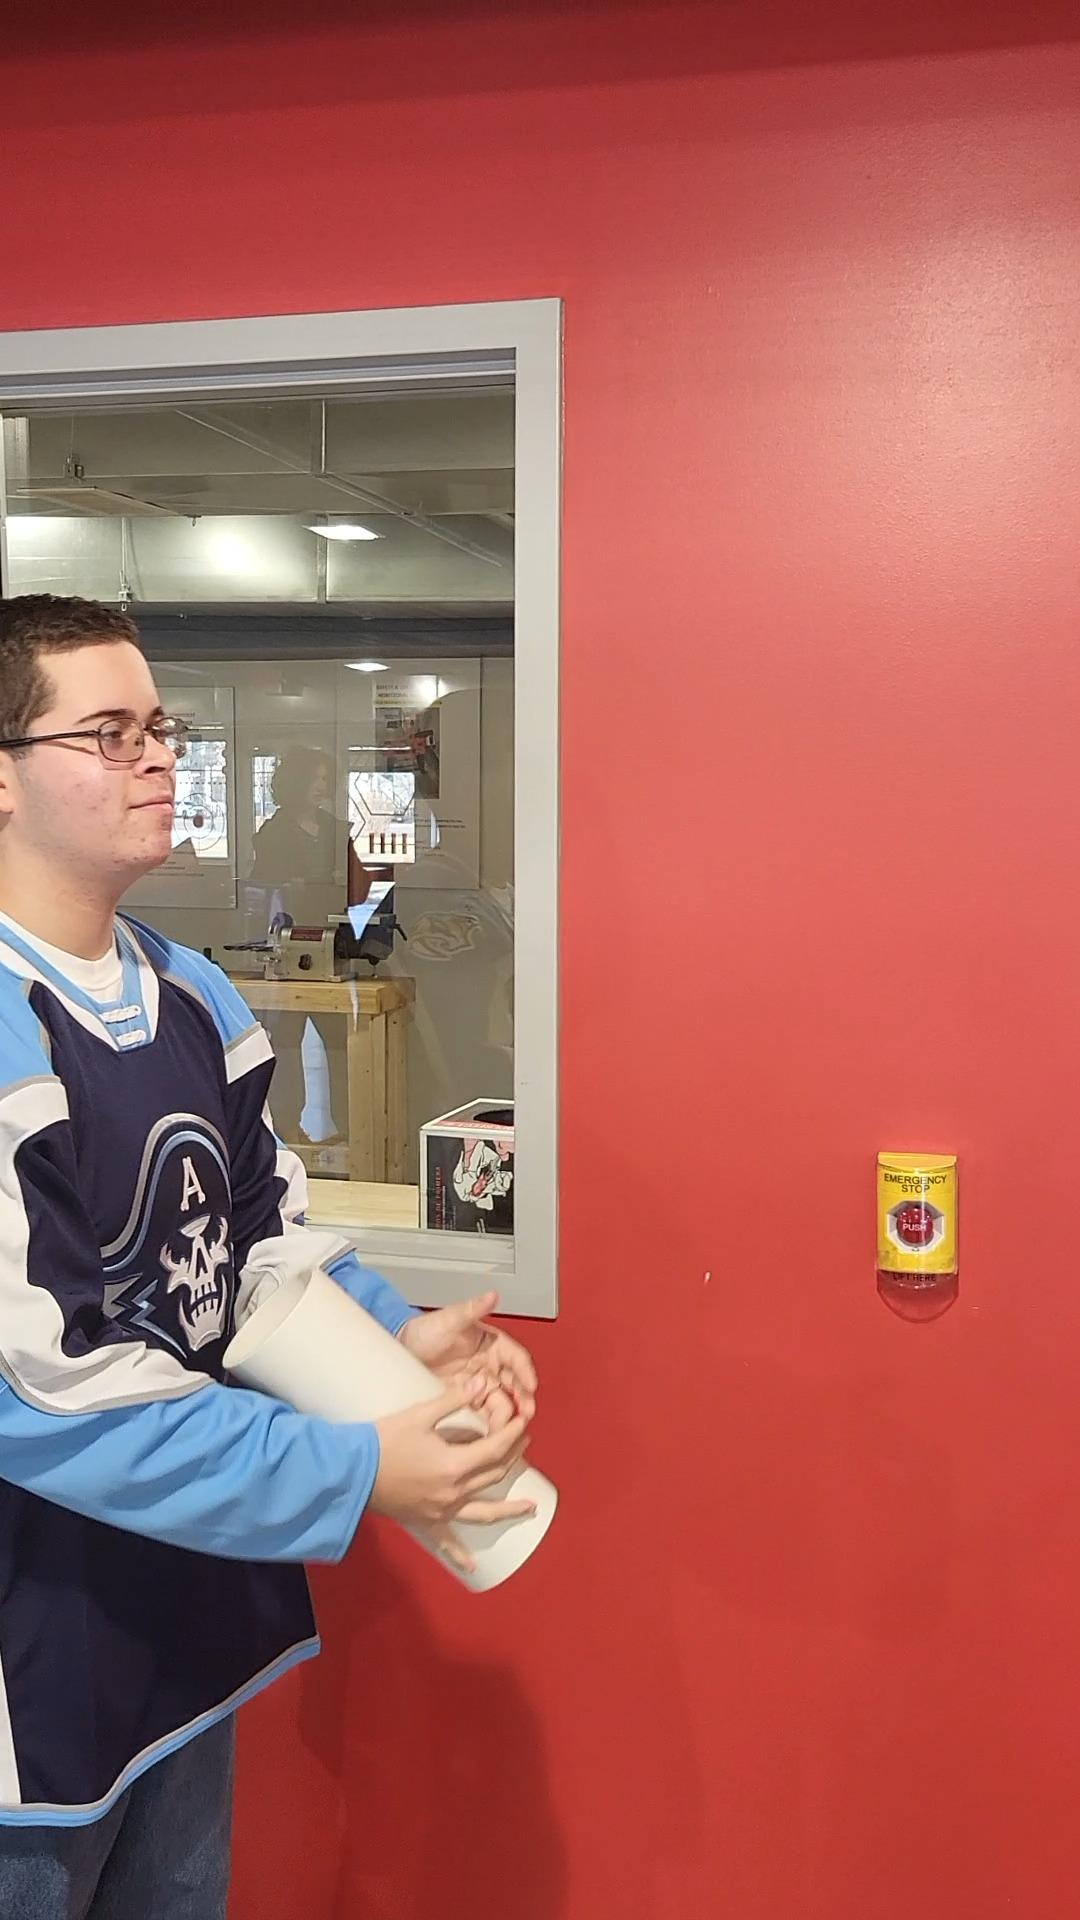coral: (227, 1261, 574, 1606)
